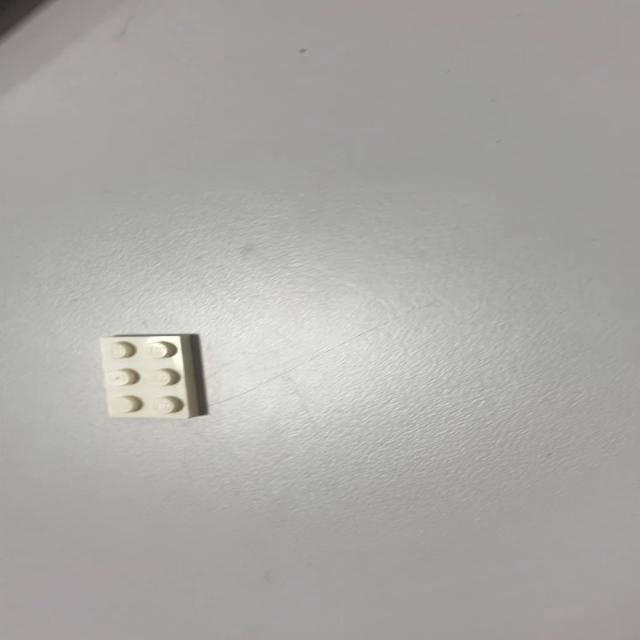C3x2x0: (98, 333, 206, 420)
